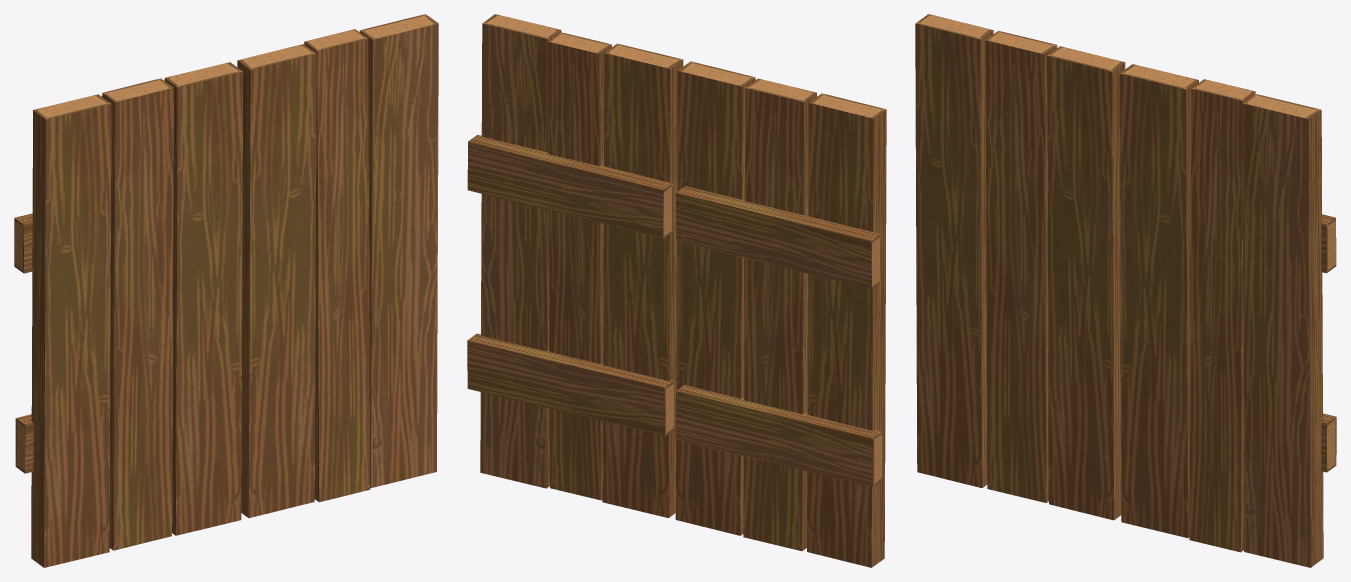
Rendered from WindowShutters_Wide_Flat_Closed.glb.
The picture shows the model from 3 angles, left to right: view 1: azimuth 30°, elevation 25°; view 2: azimuth 150°, elevation 25°; view 3: azimuth 330°, elevation 25°; orthographic projection.
Parts seen in each view (by area): view 1: WindowShutters_Wide_Flat_Closed; view 2: WindowShutters_Wide_Flat_Closed; view 3: WindowShutters_Wide_Flat_Closed.
Boxes of the visible parts, x1,y1,x2,y2 form: WindowShutters_Wide_Flat_Closed: (14, 14, 438, 567); WindowShutters_Wide_Flat_Closed: (467, 14, 886, 567); WindowShutters_Wide_Flat_Closed: (915, 14, 1336, 567).
Size of the model in its own units: 1.35 by 1.42 by 0.1358.
Materials: 1 (1 with a texture image).
